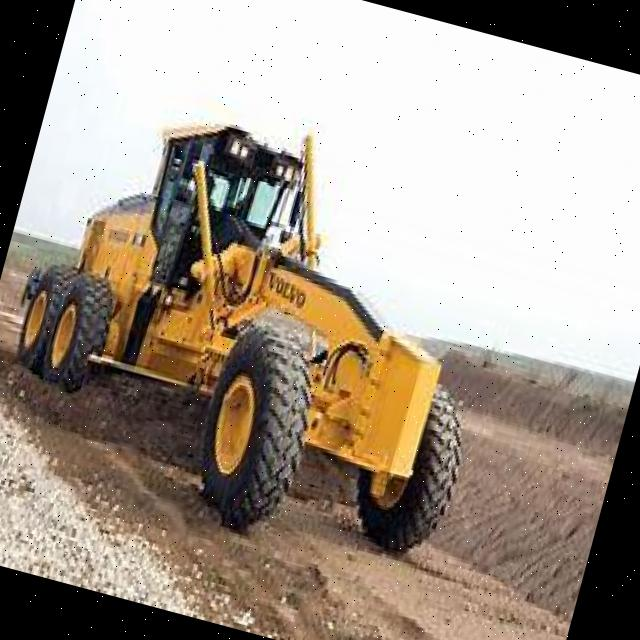Grader: (0, 59, 535, 567)
